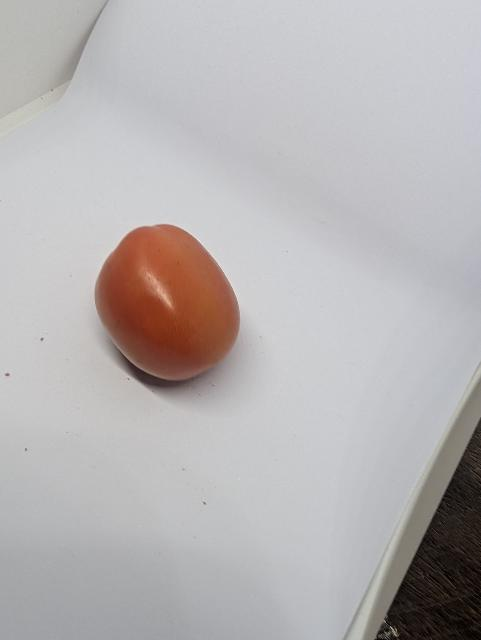turning: (91, 223, 246, 387)
